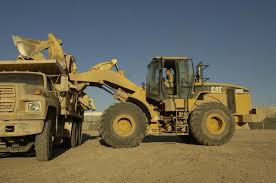excavator: (52, 52, 256, 149)
truck: (1, 61, 85, 162)
